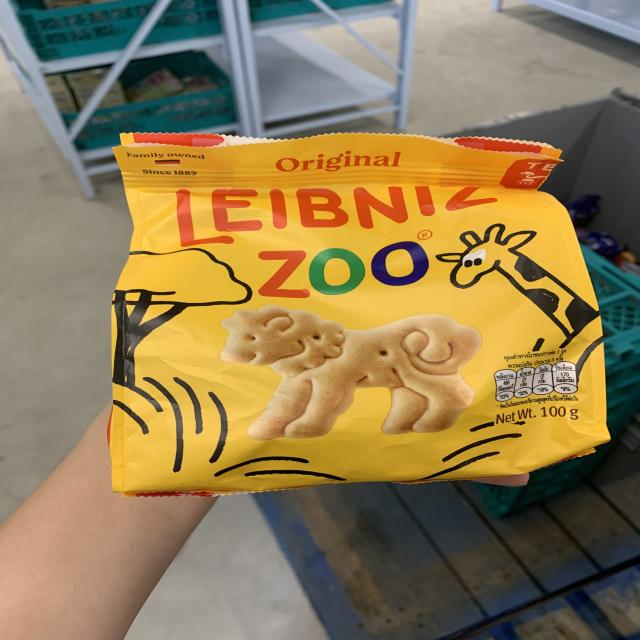object_name: (123, 159, 571, 479)
